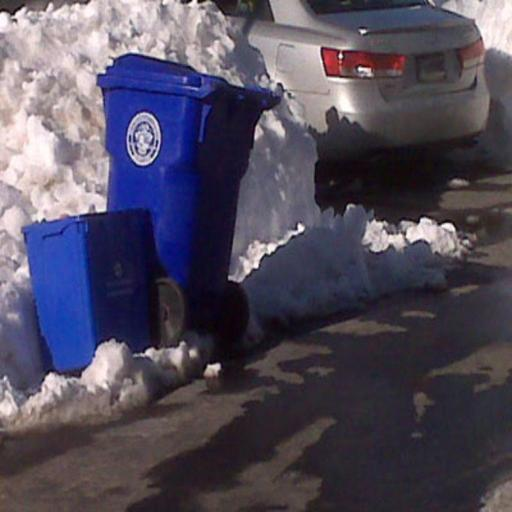trash-can: (22, 202, 164, 376)
